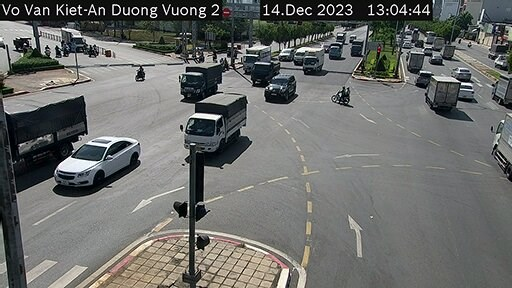car: (49, 139, 144, 189), (265, 72, 293, 101), (447, 66, 473, 83), (453, 80, 479, 97), (352, 39, 370, 59), (329, 42, 343, 62), (415, 68, 429, 87), (277, 46, 291, 62), (294, 45, 305, 63)
motorbike: (330, 82, 351, 107), (128, 65, 149, 83)
truck: (7, 85, 88, 198), (192, 89, 250, 149), (174, 59, 220, 101), (422, 75, 467, 117), (489, 105, 512, 176), (239, 37, 275, 70), (495, 76, 512, 108), (408, 50, 426, 74)
